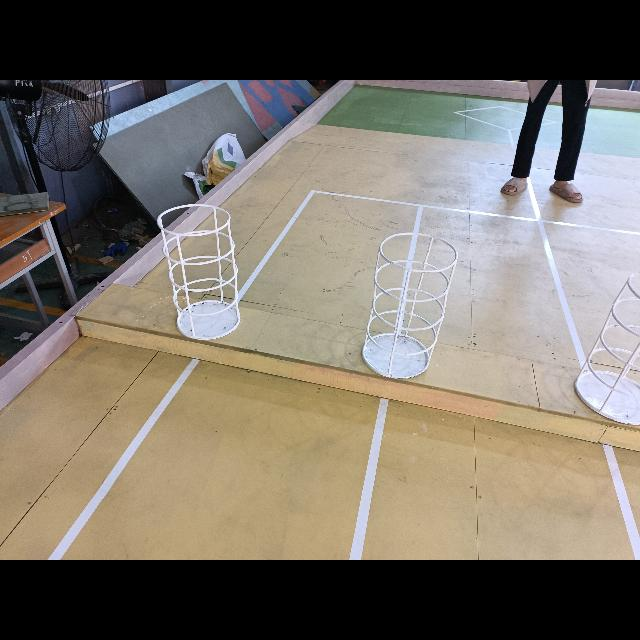S: (358, 229, 459, 383), (156, 203, 244, 342), (572, 270, 640, 426)
